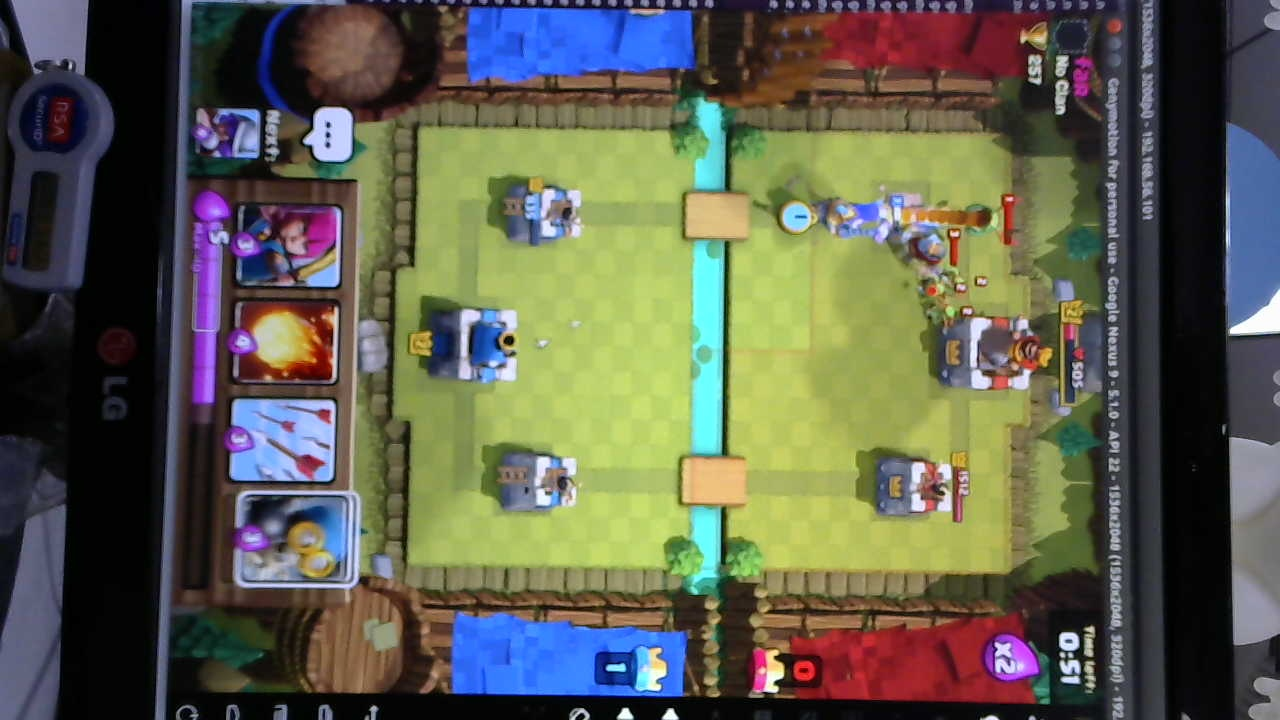arena: (497, 446, 583, 517), (511, 179, 585, 248)
dragon: (962, 200, 1008, 246)
earena: (874, 455, 954, 517)
eking: (934, 313, 1046, 395)
king: (436, 301, 526, 384)
knight: (899, 225, 947, 273)
prince: (802, 196, 868, 239)
speargoblins: (920, 271, 990, 332)
witch: (841, 200, 890, 232)
